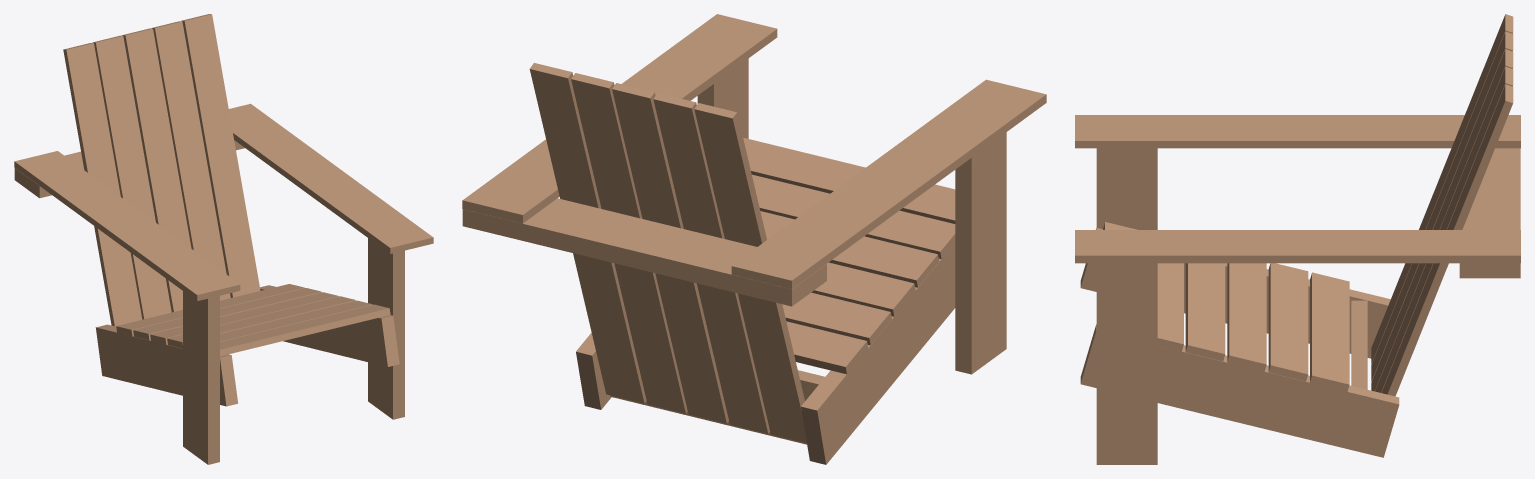
The model's file is oiled.glb.
The picture shows the model from 3 angles, left to right: view 1: azimuth 30°, elevation 25°; view 2: azimuth 150°, elevation 25°; view 3: azimuth 270°, elevation 25°; orthographic projection. The views are drawn at different scales.
Parts seen in each view (by area): view 1: arm.1, arm.2, back_slat.5, back_slat.4, back_slat.1, back_slat.2, back_slat.3, front_leg.1, stringer.1, front_leg.2, stringer.2, seat_slat.6 (+6 smaller); view 2: arm.1, upper_back_support.1, back_slat.1, front_leg.1, back_slat.5, back_slat.3, back_slat.2, back_slat.4, arm.2, stringer.1, seat_slat.6, seat_slat.5 (+7 smaller); view 3: arm.2, stringer.2, arm.1, front_leg.2, front_leg.1, seat_slat.2, upper_back_support.1, seat_slat.1, back_slat.5, seat_slat.3, seat_slat.4, back_slat.2 (+6 smaller).
Part boxes in pixels (box(x1,y1,x2,y2)): arm.1: box(14, 151, 240, 301); arm.2: box(228, 103, 433, 253); back_slat.5: box(181, 14, 260, 297); back_slat.4: box(151, 21, 230, 300); back_slat.1: box(63, 43, 142, 326); back_slat.2: box(92, 35, 171, 319); back_slat.3: box(122, 28, 191, 312); front_leg.1: box(183, 291, 219, 464); stringer.1: box(95, 324, 238, 406); front_leg.2: box(368, 238, 404, 419); stringer.2: box(260, 285, 399, 366); seat_slat.6: box(220, 304, 390, 356); arm.1: box(731, 79, 1046, 289); upper_back_support.1: box(462, 198, 826, 306); back_slat.1: box(694, 103, 806, 443); front_leg.1: box(955, 132, 1006, 374); back_slat.5: box(529, 63, 646, 403); back_slat.3: box(612, 83, 728, 423); back_slat.2: box(653, 93, 769, 433); back_slat.4: box(571, 73, 687, 413); arm.2: box(462, 14, 777, 223); stringer.1: box(801, 243, 955, 464); seat_slat.6: box(743, 138, 955, 223); seat_slat.5: box(752, 174, 955, 258); arm.2: box(1075, 230, 1520, 263); stringer.2: box(1080, 324, 1399, 457); arm.1: box(1075, 115, 1520, 148); front_leg.2: box(1096, 263, 1157, 464); front_leg.1: box(1096, 148, 1157, 229); seat_slat.2: box(1268, 263, 1308, 381); upper_back_support.1: box(1459, 148, 1520, 278); seat_slat.1: box(1310, 272, 1349, 391); back_slat.5: box(1381, 84, 1513, 396); seat_slat.3: box(1227, 263, 1266, 371); seat_slat.4: box(1185, 263, 1225, 361); back_slat.2: box(1371, 31, 1513, 381).
Bounding box in the file's own units: 0.764 × 0.8841 × 1.02.
